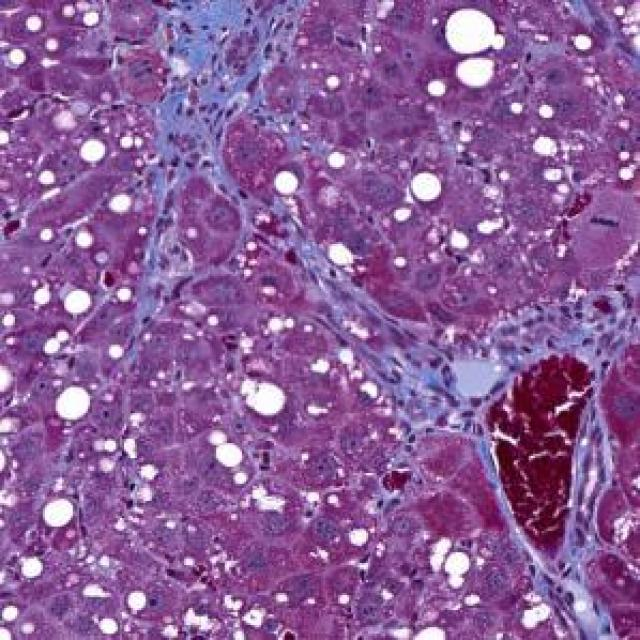fibrosis: (146, 22, 293, 204), (325, 304, 516, 417)
